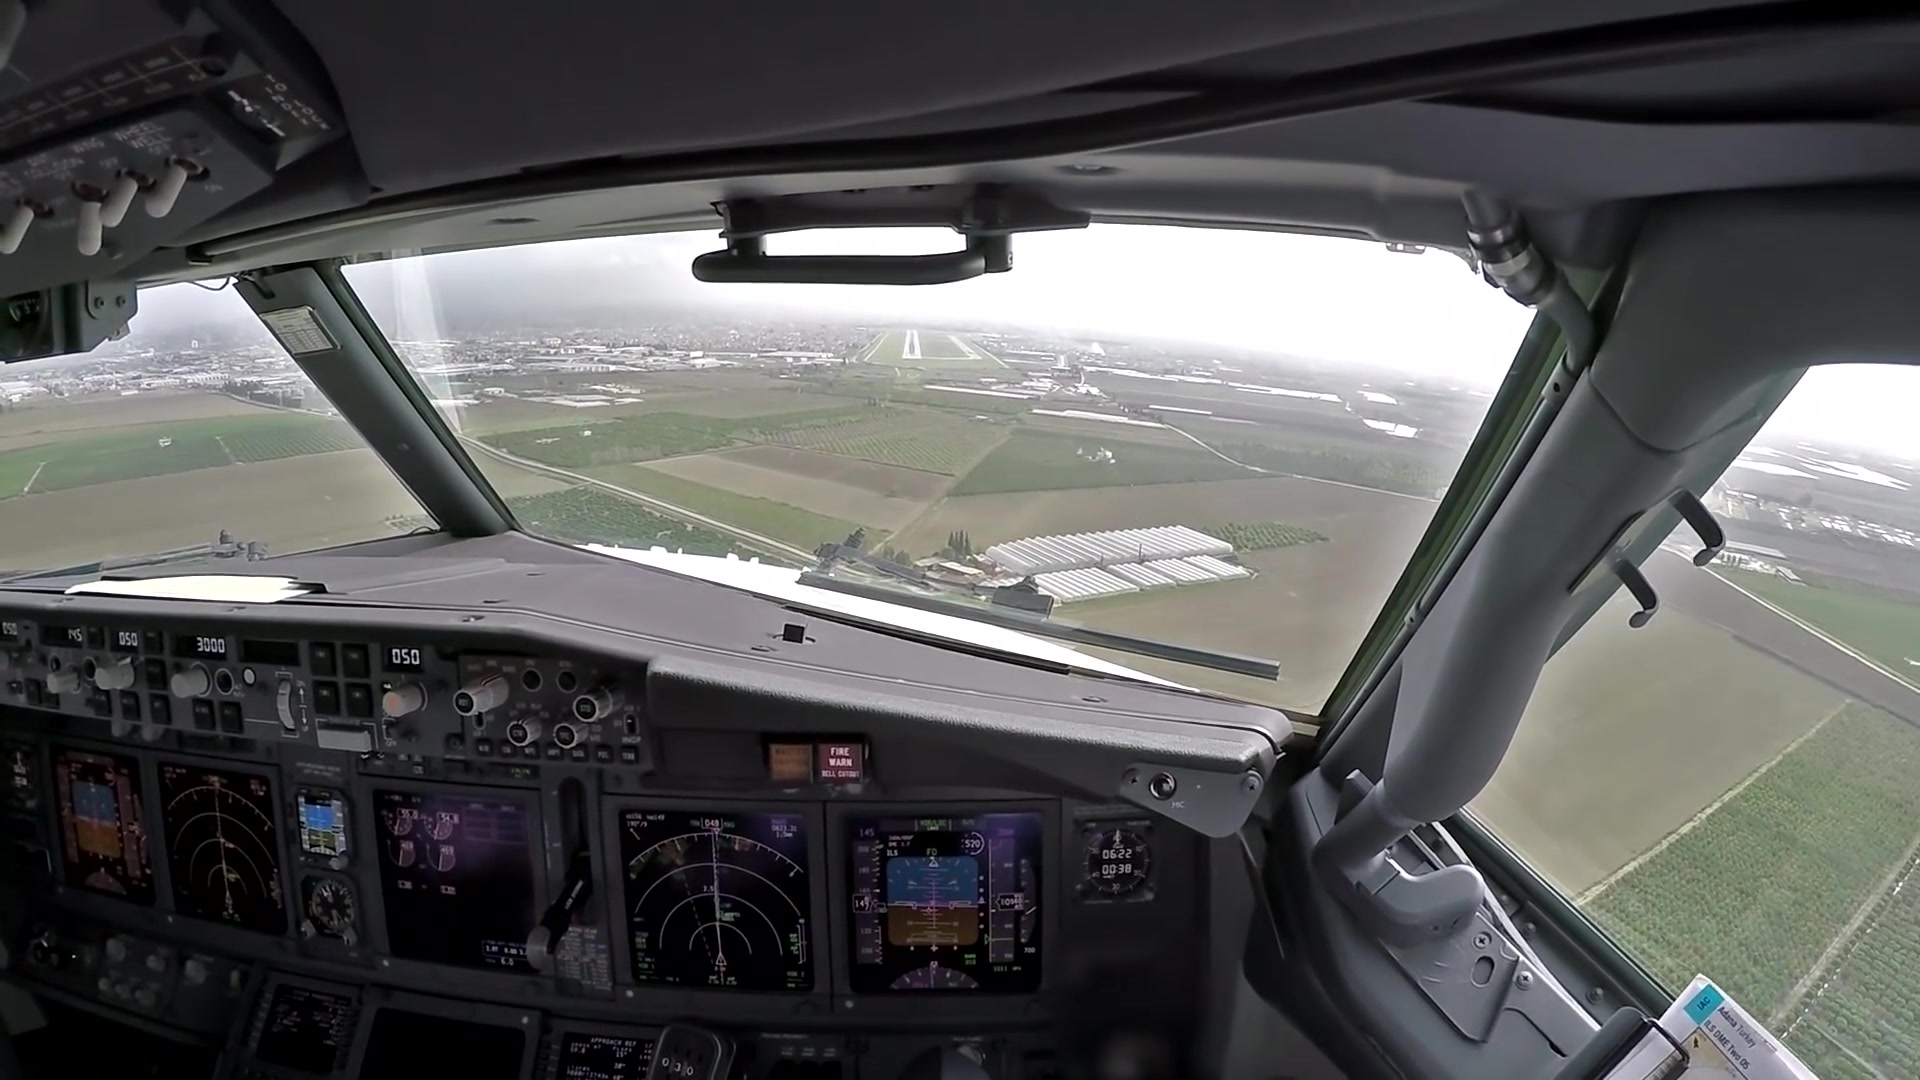runway: (901, 330, 920, 359)
